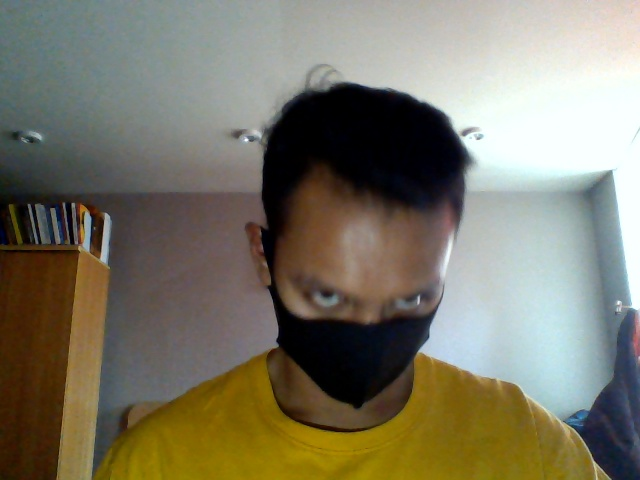mask: (267, 301, 434, 408)
